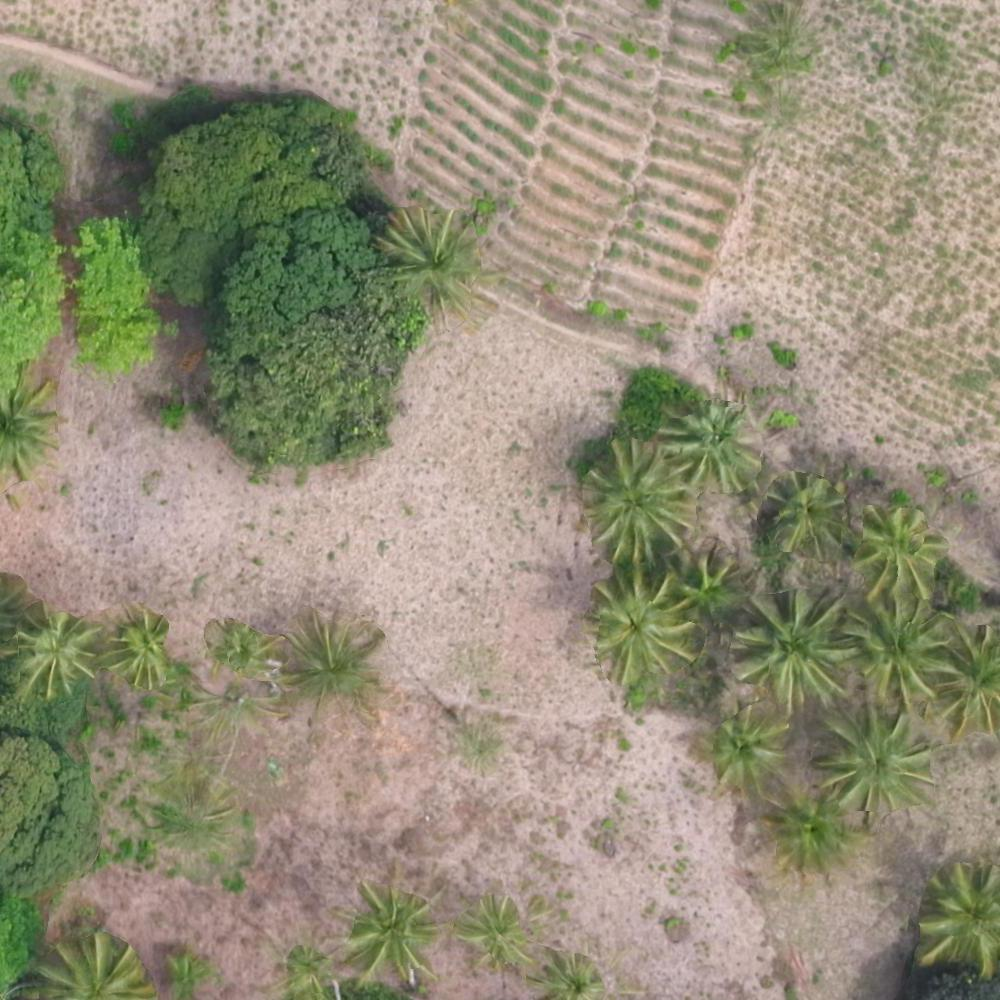Palm: (817, 704, 941, 821), (588, 564, 698, 683), (582, 442, 696, 556), (742, 590, 852, 697), (848, 594, 952, 701), (910, 861, 1000, 974), (386, 212, 485, 313), (348, 877, 444, 980), (281, 610, 380, 709), (662, 396, 758, 496), (852, 506, 941, 600), (766, 796, 860, 879), (708, 710, 793, 792), (10, 613, 92, 692), (767, 475, 846, 557), (667, 547, 748, 625), (458, 897, 532, 972), (100, 610, 167, 688)
